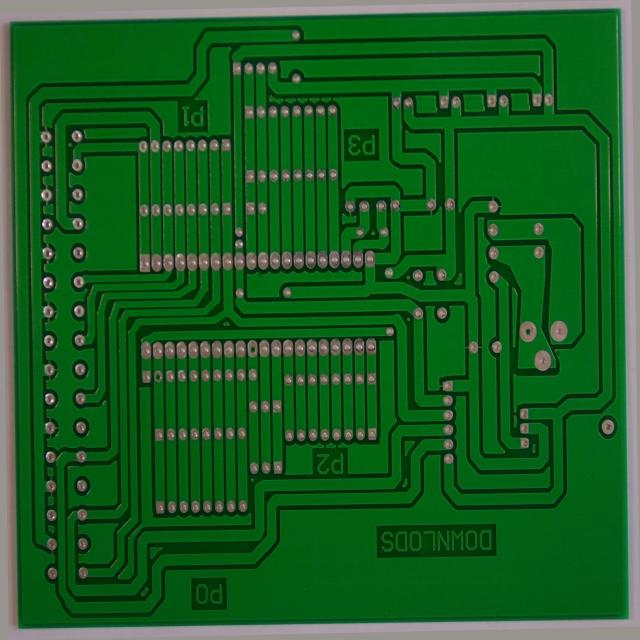missing_hole: (520, 323, 541, 349), (245, 339, 258, 359), (149, 364, 161, 385)
